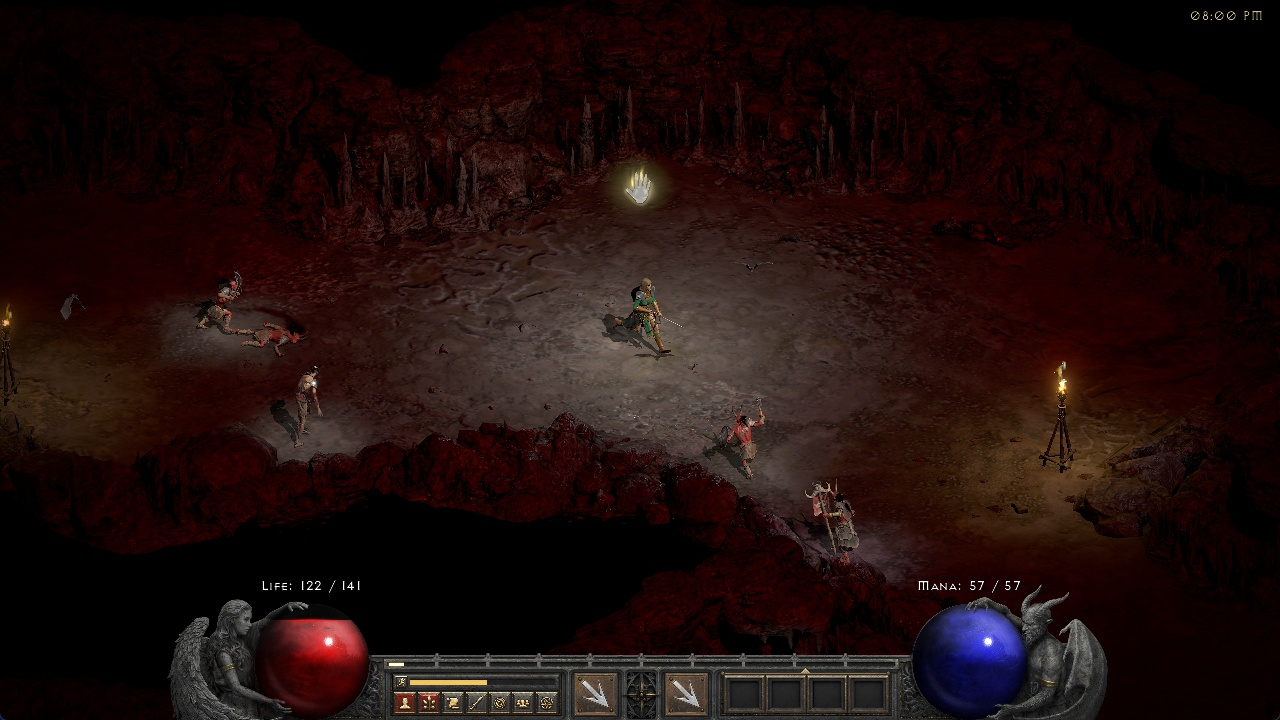fallen: (713, 398, 766, 477), (201, 269, 241, 336)
